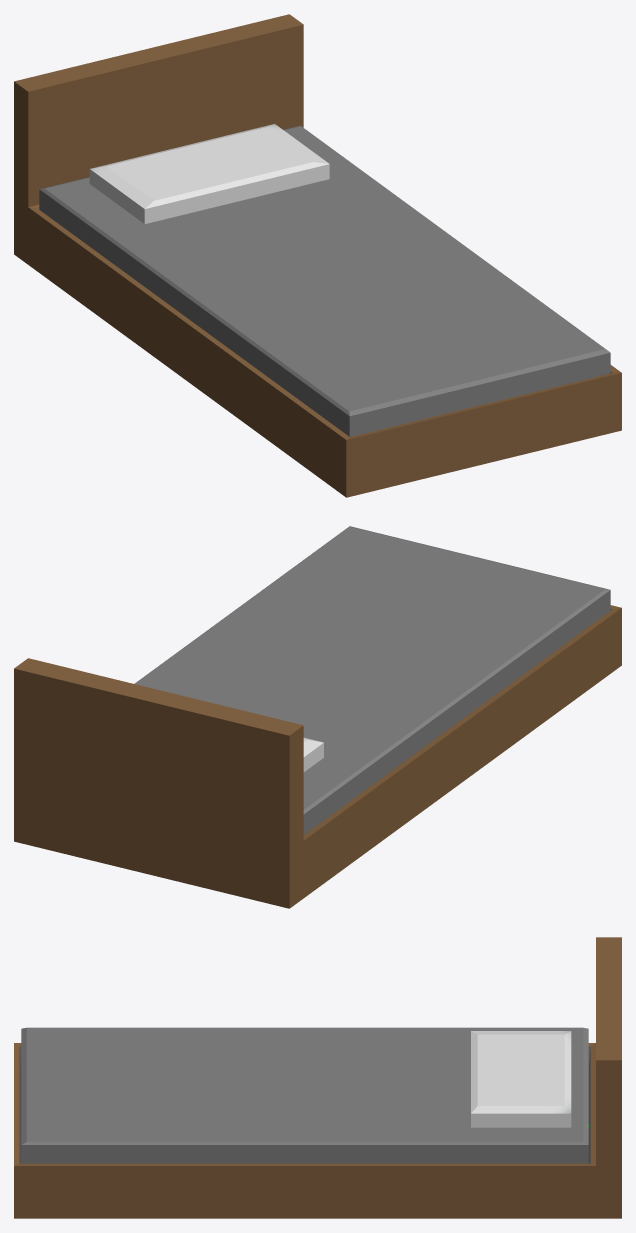
Rendered from bed.fbx.
The picture shows the model from 3 angles, top to bottom: view 1: azimuth 30°, elevation 25°; view 2: azimuth 150°, elevation 25°; view 3: azimuth 270°, elevation 25°; orthographic projection. The views are drawn at different scales.
Visible parts, largest first — view 1: Cube; view 2: Cube; view 3: Cube.
Part boxes in pixels (x1,y1,x2,y2): Cube: (14,14,621,497); Cube: (14,526,621,908); Cube: (14,937,621,1218).
Bounding box in the file's own units: 1000 × 600 × 2090.
